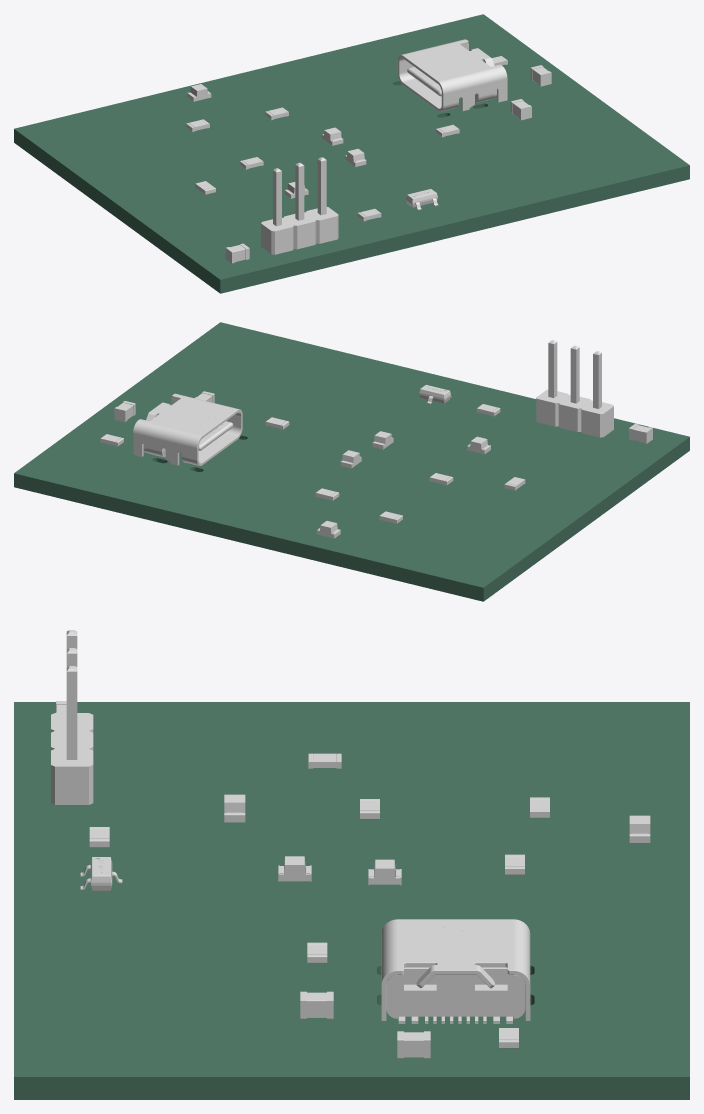
File: board.glb
The picture shows the model from 3 angles, top to bottom: view 1: azimuth 30°, elevation 25°; view 2: azimuth 150°, elevation 25°; view 3: azimuth 270°, elevation 25°; orthographic projection. The views are drawn at different scales.
Parts seen in each view (by area): view 1: =>[0:1:1:8], J1, J2, Q1; view 2: =>[0:1:1:8], J1, J2, Q1; view 3: =>[0:1:1:8], J1, J2, Q1, C1, C2, D2, D3.
Part boxes in pixels (x1,y1,x2,y2): =>[0:1:1:8]: (14,14,689,293); J1: (397,39,507,111); J2: (261,157,338,254); Q1: (406,189,438,210); =>[0:1:1:8]: (14,322,689,601); J1: (133,393,242,465); J2: (536,340,613,437); Q1: (419,385,451,404); =>[0:1:1:8]: (14,702,689,1099); J1: (381,919,530,1023); J2: (51,630,93,804); Q1: (80,857,122,890); C1: (397,1031,430,1058); C2: (300,991,333,1018); D2: (278,856,311,881); D3: (368,859,401,885).
Bounding box in the file's own units: 0.0532 × 0.0115 × 0.0405.
